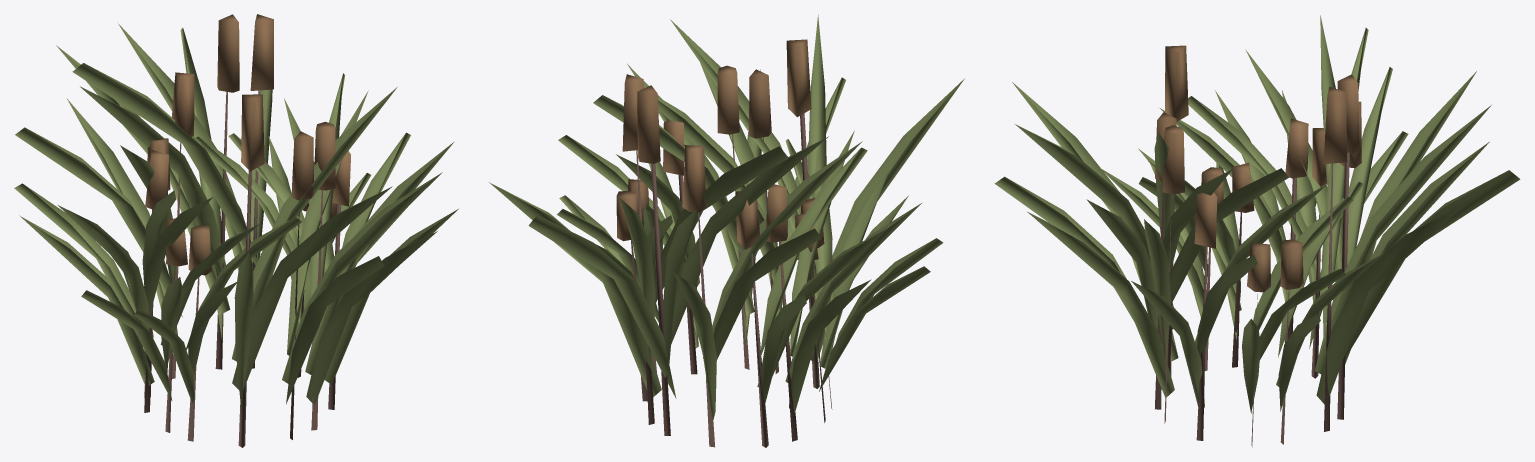
Rendered from cattail.glb.
3 renders of one model, left to right at view 1: azimuth 30°, elevation 25°; view 2: azimuth 150°, elevation 25°; view 3: azimuth 270°, elevation 25°, orthographic.
Visible parts, largest first — view 1: SM_cattail_bed_LOD, SM_cattail_bed_LOD.001; view 2: SM_cattail_bed_LOD, SM_cattail_bed_LOD.001; view 3: SM_cattail_bed_LOD, SM_cattail_bed_LOD.001.
Boxes of the visible parts, x1,y1,x2,y2 form: SM_cattail_bed_LOD: (14, 22, 458, 447); SM_cattail_bed_LOD.001: (145, 14, 350, 275); SM_cattail_bed_LOD: (489, 14, 964, 447); SM_cattail_bed_LOD.001: (616, 39, 824, 260); SM_cattail_bed_LOD: (994, 15, 1520, 447); SM_cattail_bed_LOD.001: (1155, 45, 1361, 292).
Size of the model in its own units: 1.54 by 1.42 by 1.95.
